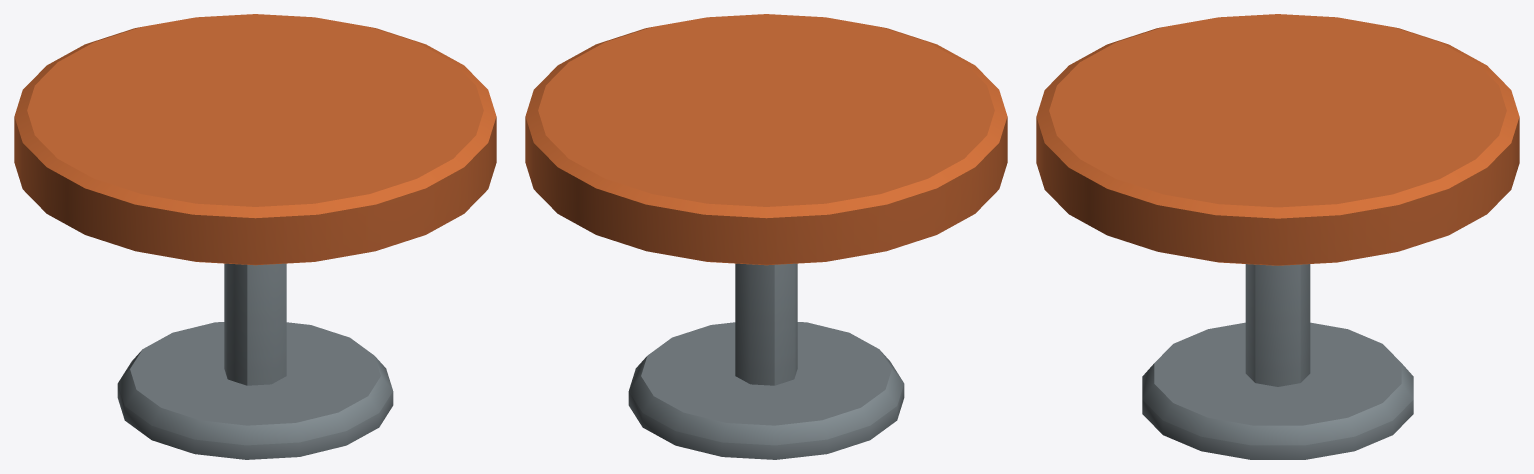
Rendered from RoundTable.glb.
3 renders of one model, left to right at view 1: azimuth 30°, elevation 25°; view 2: azimuth 150°, elevation 25°; view 3: azimuth 270°, elevation 25°, orthographic.
Visible parts, largest first — view 1: table_round_A_small; view 2: table_round_A_small; view 3: table_round_A_small.
Part boxes in pixels (x1,y1,x2,y2): table_round_A_small: (14,14,496,459); table_round_A_small: (525,14,1007,459); table_round_A_small: (1036,14,1519,459).
Size of the model in its own units: 1.5 by 1 by 1.5.
Materials: 1 (1 with a texture image).
